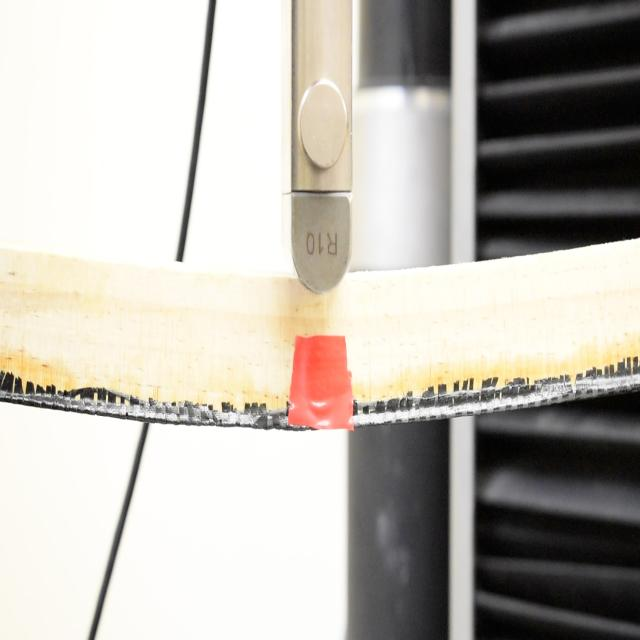wood: (0, 249, 634, 435)
